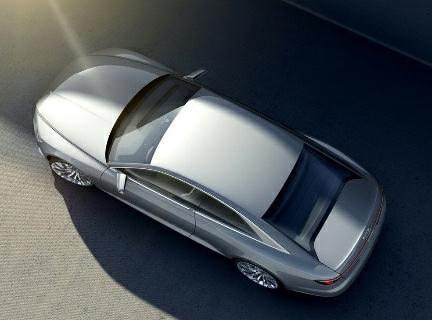奥迪-Prologue: (25, 41, 397, 308)
